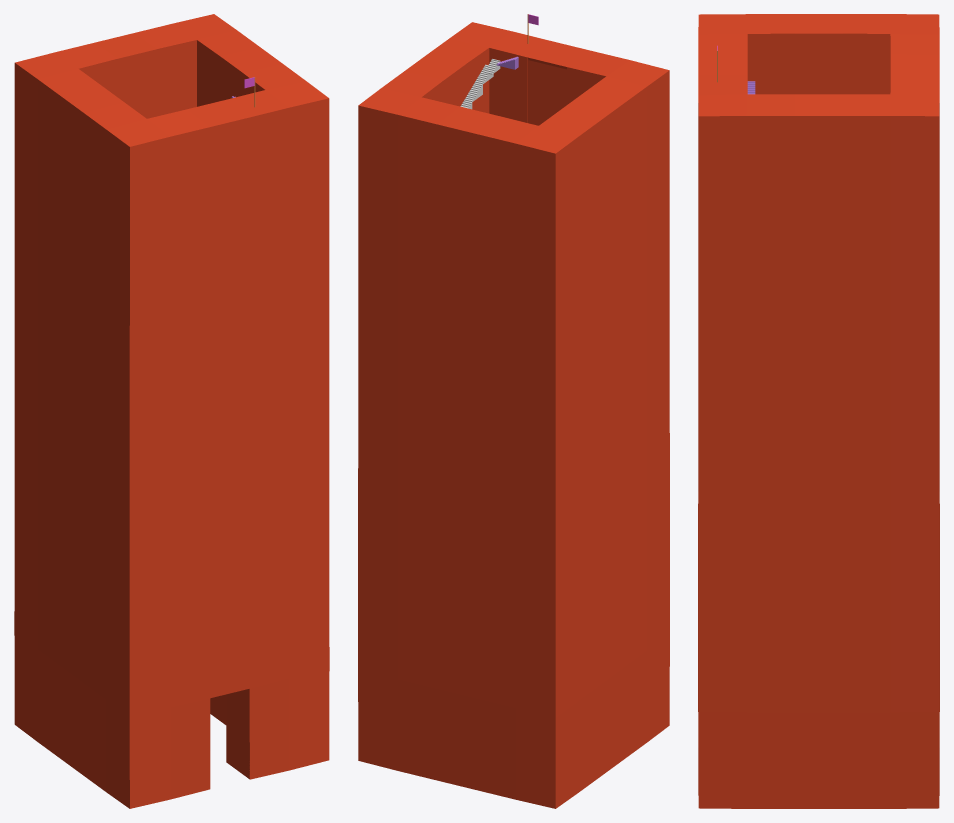
File: tower 2222.fbx
3 views of the same model, side by side, from view 1: azimuth 30°, elevation 25°; view 2: azimuth 150°, elevation 25°; view 3: azimuth 270°, elevation 25° (orthographic). The views are drawn at different scales.
Parts seen in each view (by area): view 1: Cube.014; view 2: Cube.014; view 3: Cube.014.
Boxes of the visible parts, bbox=[...] form: Cube.014: bbox=[14, 14, 329, 808]; Cube.014: bbox=[358, 22, 669, 808]; Cube.014: bbox=[698, 14, 939, 808].
Bounding box in the file's own units: 4965 × 4965 × 16438.
